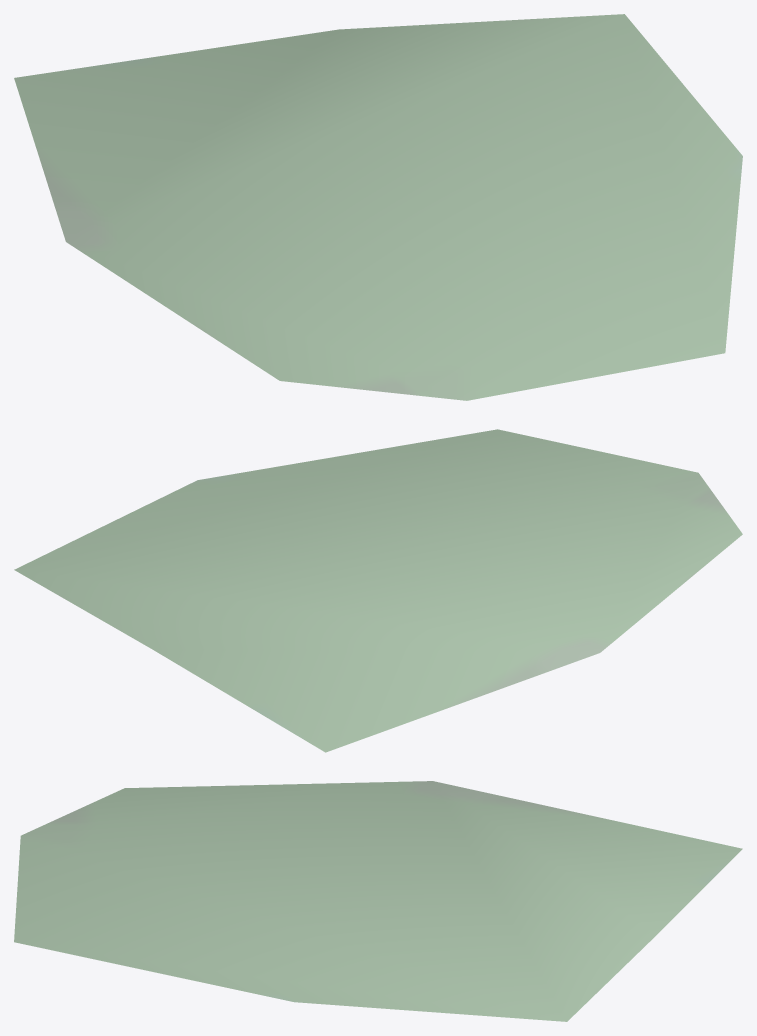
Rendered from TROLLHOLE02_HOLECAP218.fbx.
3 views of the same model, one above another, from view 1: azimuth 30°, elevation 25°; view 2: azimuth 150°, elevation 25°; view 3: azimuth 270°, elevation 25° (orthographic). The views are drawn at different scales.
Parts seen in each view (by area): view 1: TROLLHOLE02_HOLECAP218; view 2: TROLLHOLE02_HOLECAP218; view 3: TROLLHOLE02_HOLECAP218.
Boxes of the visible parts, x1,y1,x2,y2 form: TROLLHOLE02_HOLECAP218: (14, 14, 742, 400); TROLLHOLE02_HOLECAP218: (14, 429, 742, 752); TROLLHOLE02_HOLECAP218: (14, 781, 742, 1021).
Bounding box in the file's own units: 20976 × 740 × 26102.
1 material, 1 textured.
